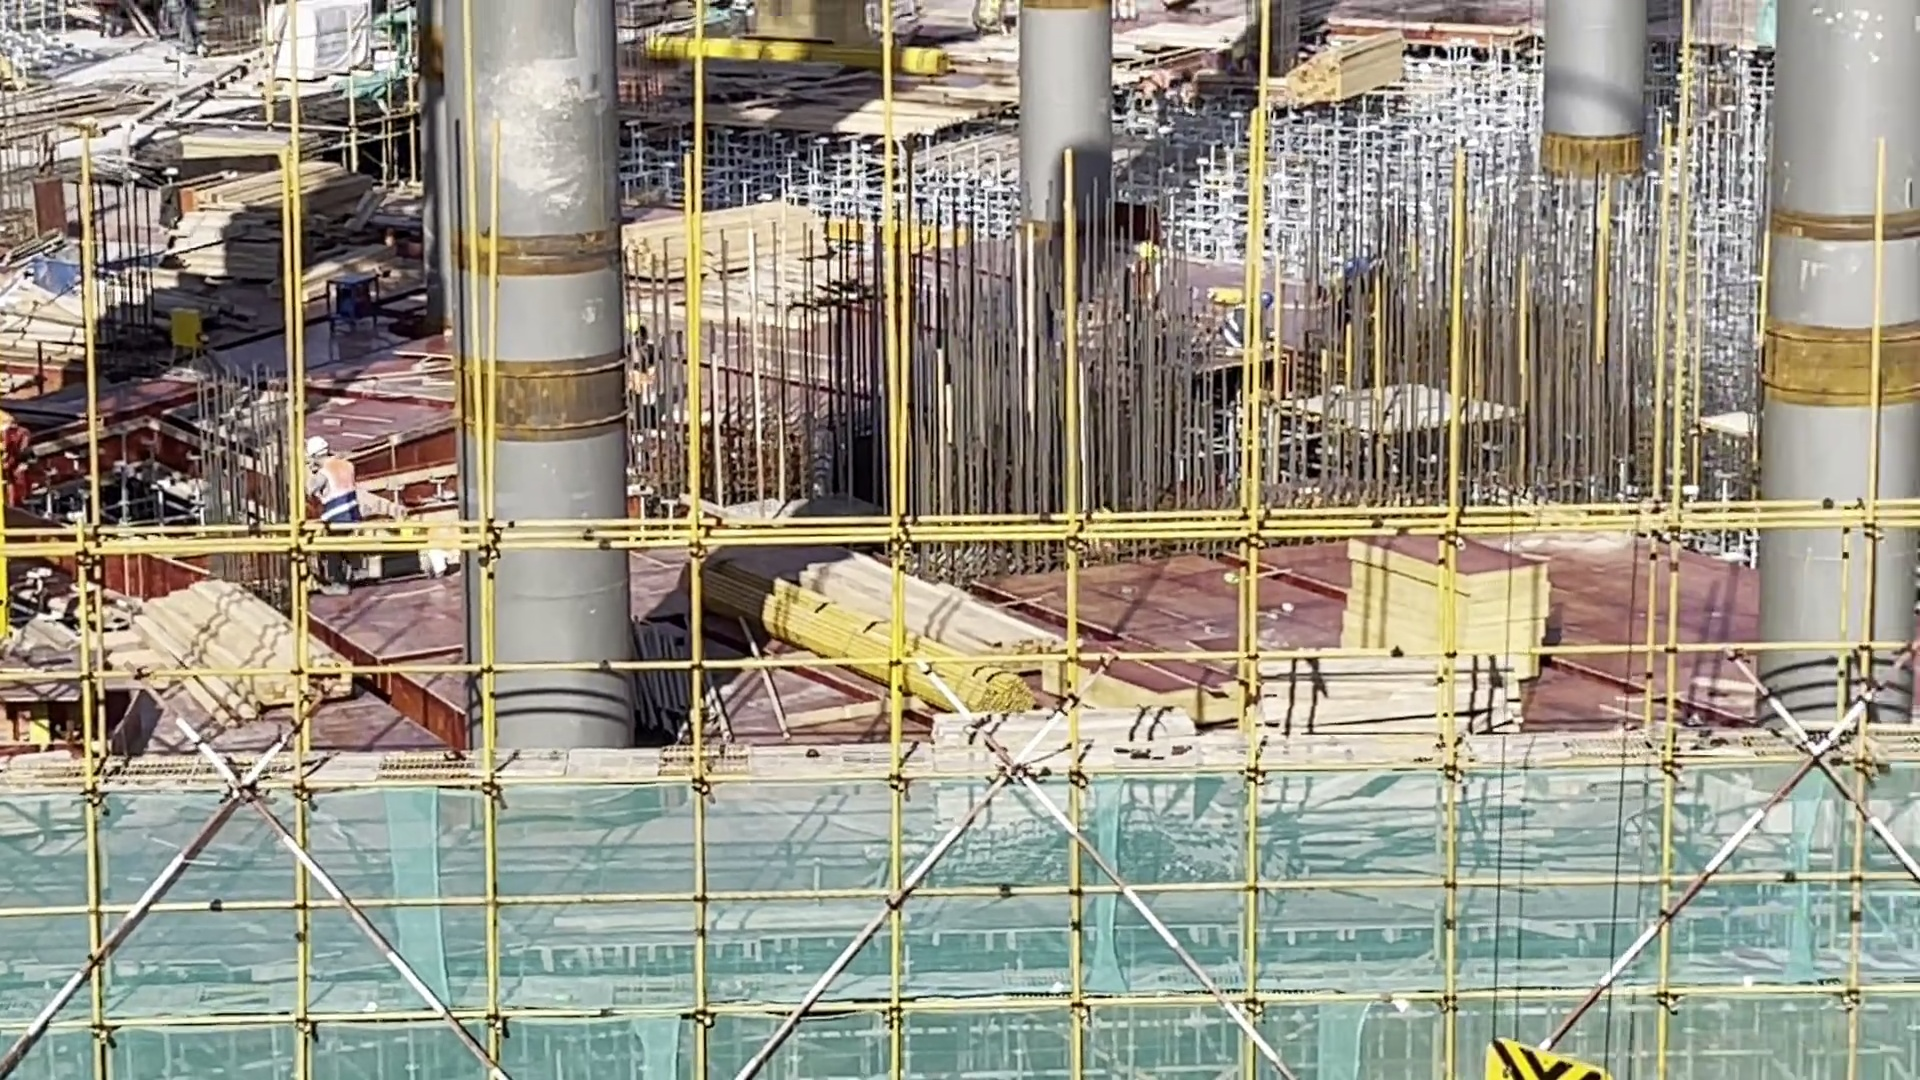board: (1353, 536, 1561, 702), (191, 129, 311, 176), (786, 1, 908, 42)
cutter: (1, 676, 99, 784)
ebox: (159, 304, 218, 361), (33, 694, 58, 736)
helmet: (1345, 256, 1373, 279), (632, 315, 652, 347), (1139, 254, 1149, 314), (307, 440, 335, 457), (1131, 241, 1156, 255), (1260, 291, 1278, 309)
hopper: (41, 224, 159, 281)
person: (301, 421, 356, 588), (619, 298, 682, 415), (1332, 258, 1418, 326), (1212, 301, 1292, 358), (1126, 241, 1167, 316), (724, 1, 779, 45)
vest: (311, 454, 361, 529), (1356, 257, 1404, 321), (1213, 306, 1268, 341), (646, 352, 688, 396), (428, 519, 473, 547), (735, 1, 750, 16)
wood: (721, 497, 1033, 689), (156, 592, 366, 771), (616, 181, 926, 284), (1259, 31, 1429, 109)
